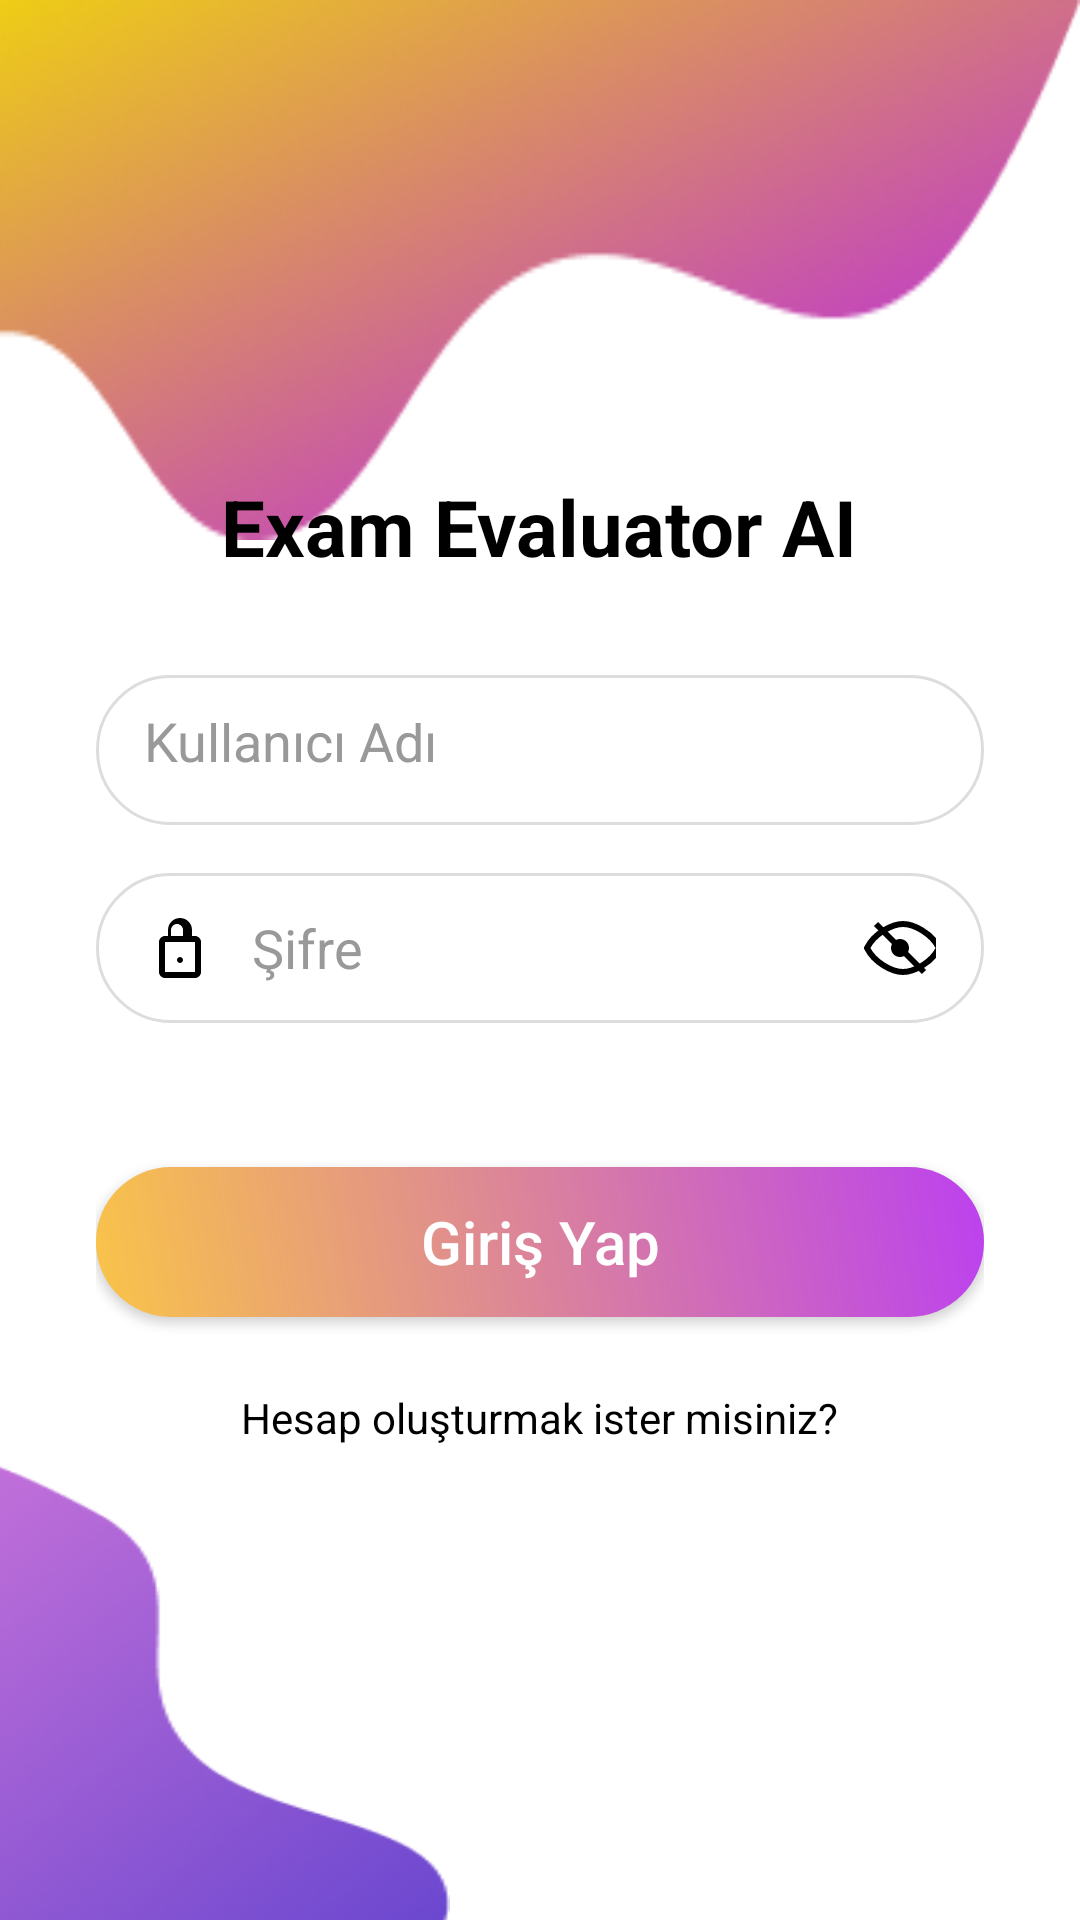

Screen size 1080×1920. Icon name, then its box in pixels as box=[x1, y1, x2, y2]:
eye closed: box=[864, 921, 936, 975]
